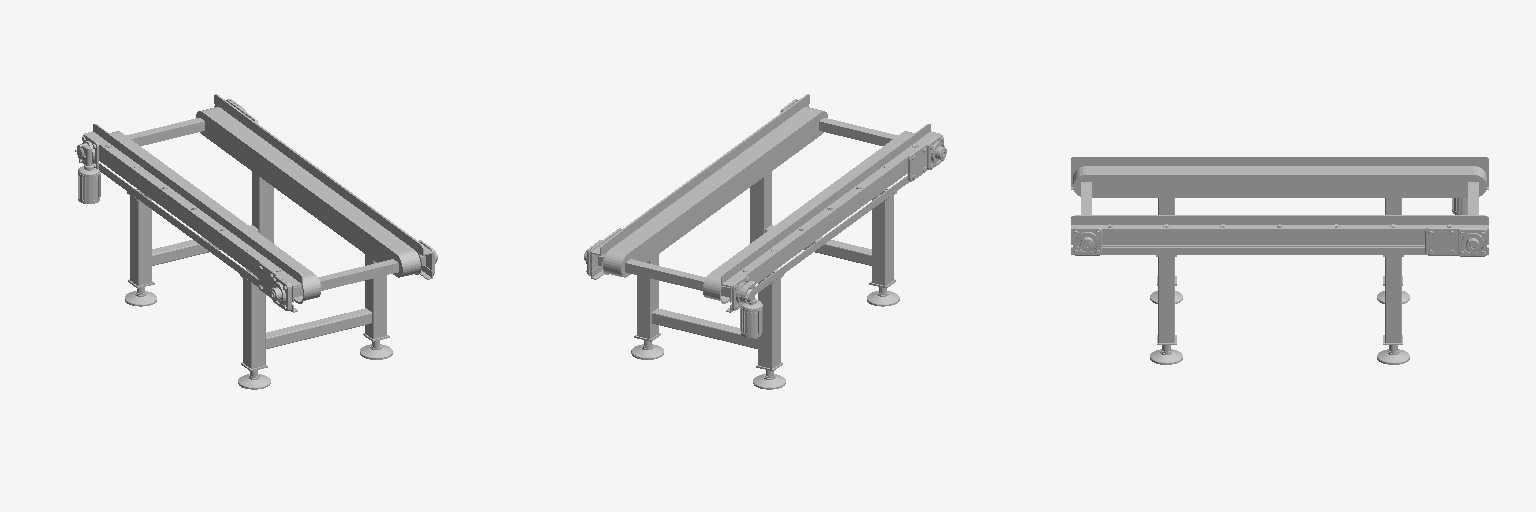
The model's file is conveyornobelt.obj.
3 views of the same model, side by side, from view 1: azimuth 30°, elevation 25°; view 2: azimuth 150°, elevation 25°; view 3: azimuth 270°, elevation 25° (orthographic).
Parts seen in each view (by area): view 1: Conveyor01Frame_Conveyor_0, Conveyor01Legs_Conveyor_0, Conveyor01Frame01_Conveyor_0, Conveyor01Frame02_Conveyor_0; view 2: Conveyor01Frame_Conveyor_0, Conveyor01Frame01_Conveyor_0, Conveyor01Legs_Conveyor_0, Conveyor01Frame02_Conveyor_0; view 3: Conveyor01Frame02_Conveyor_0, Conveyor01Frame_Conveyor_0, Conveyor01Legs_Conveyor_0, Conveyor01Frame01_Conveyor_0.
Boxes of the visible parts, box(x1,y1,x2,y2) form: Conveyor01Frame_Conveyor_0: box(110, 105, 425, 303); Conveyor01Legs_Conveyor_0: box(125, 172, 392, 389); Conveyor01Frame01_Conveyor_0: box(75, 124, 302, 312); Conveyor01Frame02_Conveyor_0: box(214, 94, 437, 279); Conveyor01Frame_Conveyor_0: box(598, 105, 913, 303); Conveyor01Frame01_Conveyor_0: box(721, 124, 946, 337); Conveyor01Legs_Conveyor_0: box(631, 172, 899, 389); Conveyor01Frame02_Conveyor_0: box(584, 94, 809, 279); Conveyor01Frame02_Conveyor_0: box(1071, 215, 1488, 256); Conveyor01Frame_Conveyor_0: box(1071, 164, 1488, 246); Conveyor01Legs_Conveyor_0: box(1150, 198, 1409, 364); Conveyor01Frame01_Conveyor_0: box(1071, 157, 1488, 214).
Bounding box in the file's own units: 8.54 × 6.79 × 18.12.